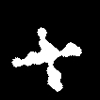single_crochet: (12, 28, 81, 91)
